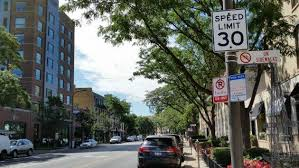speedLimit30: (212, 9, 250, 51)
